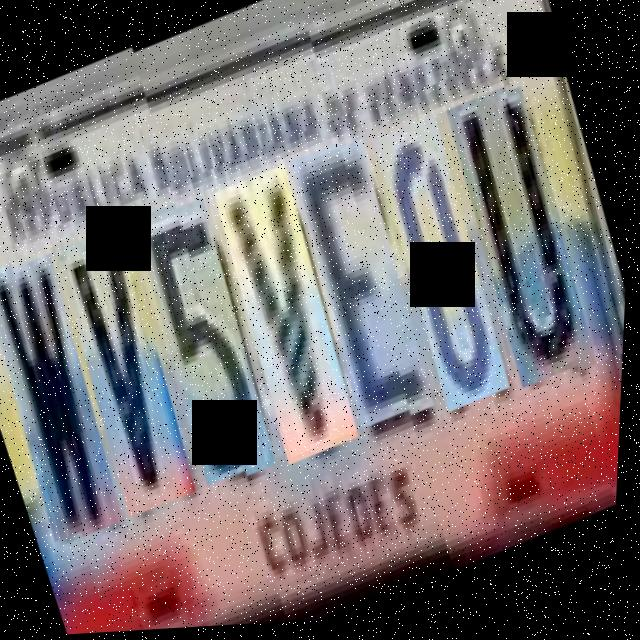0: (354, 103, 534, 410)
5: (119, 189, 302, 492)
E: (272, 126, 458, 431)
U: (426, 69, 620, 387)
V: (197, 157, 385, 466), (41, 219, 224, 523)
W: (0, 249, 152, 551)
